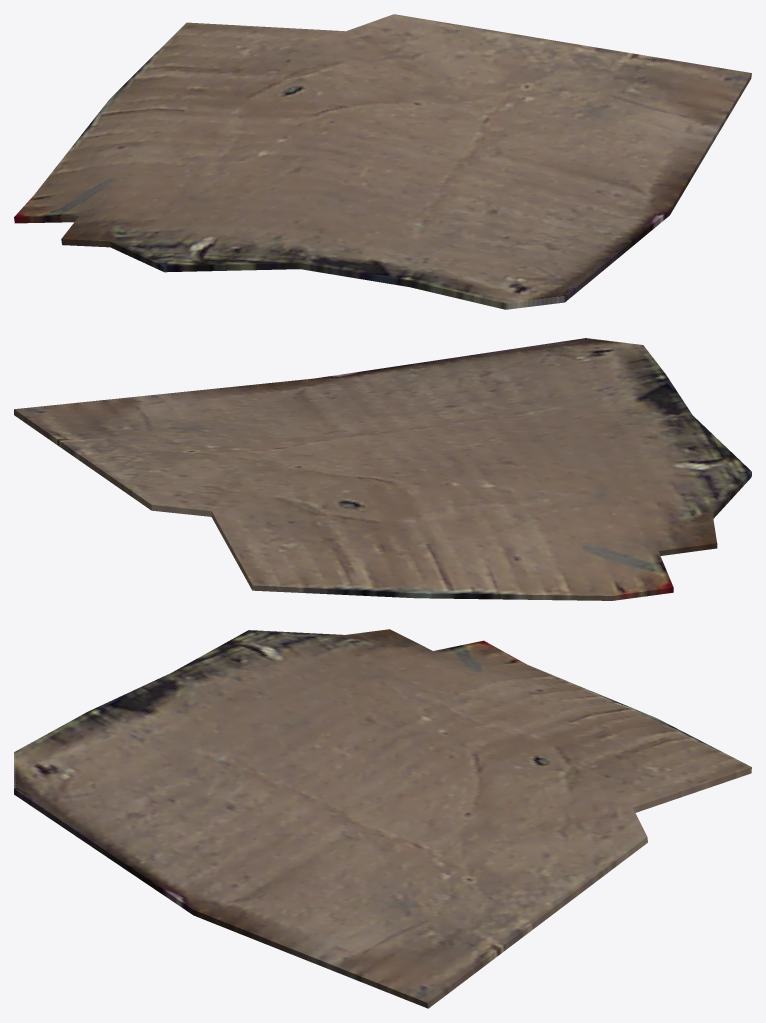
File: Garbage1E.fbx
The picture shows the model from 3 angles, top to bottom: view 1: azimuth 30°, elevation 25°; view 2: azimuth 150°, elevation 25°; view 3: azimuth 270°, elevation 25°; orthographic projection. The views are drawn at different scales.
Parts seen in each view (by area): view 1: polySurface854; view 2: polySurface854; view 3: polySurface854.
Boxes of the visible parts, <box> form: polySurface854: <box>14,14,751,309</box>; polySurface854: <box>14,338,751,600</box>; polySurface854: <box>14,629,751,1008</box>.
Bounding box in the file's own units: 0.7644 × 0.0544 × 0.6749.
